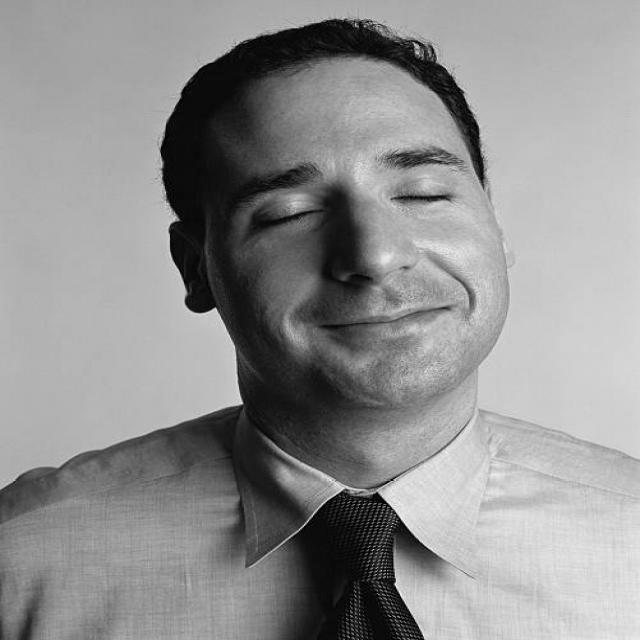real: (165, 53, 520, 407), (206, 148, 512, 242)
